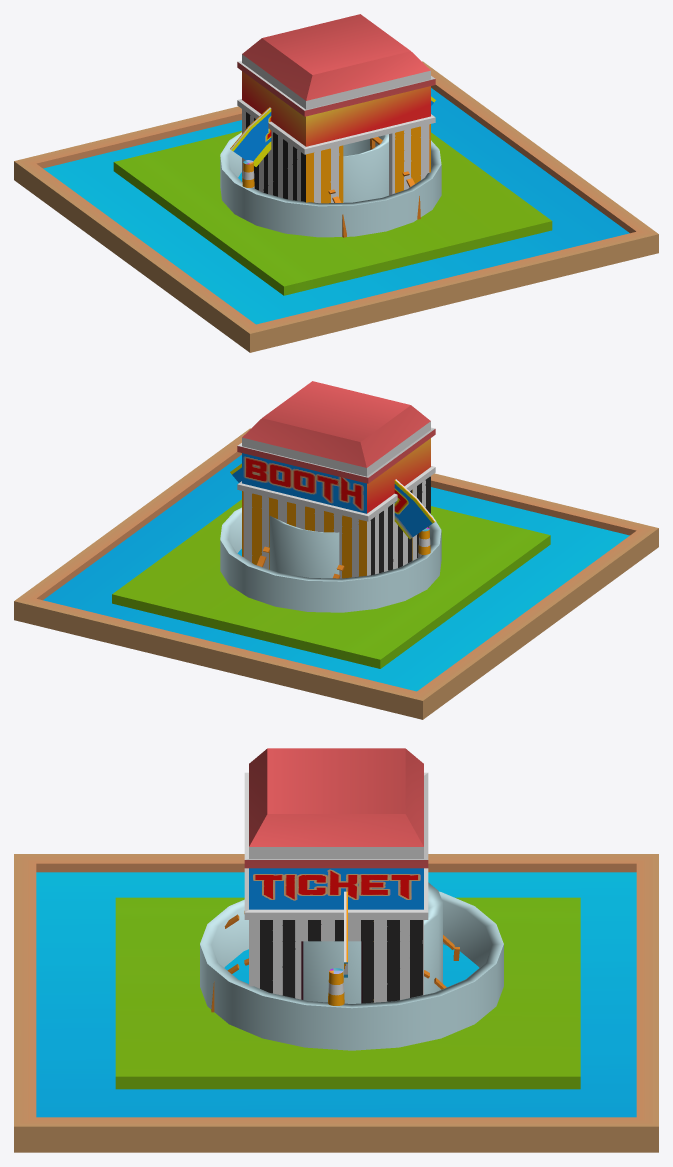
The model's file is park prop 02.fbx.
3 views of the same model, one above another, from view 1: azimuth 30°, elevation 25°; view 2: azimuth 150°, elevation 25°; view 3: azimuth 270°, elevation 25° (orthographic). The views are drawn at different scales.
Parts seen in each view (by area): view 1: park_prop04, park_prop02, park_prop05; view 2: park_prop04, park_prop02, park_prop05; view 3: park_prop04, park_prop02, park_prop05, park_prop03.
Part boxes in pixels (<box>): park_prop04: <box>14,61,658,352</box>; park_prop02: <box>237,14,435,203</box>; park_prop05: <box>230,96,435,188</box>; park_prop04: <box>14,428,658,719</box>; park_prop02: <box>237,381,435,578</box>; park_prop05: <box>230,463,435,557</box>; park_prop04: <box>14,854,658,1152</box>; park_prop02: <box>244,748,428,1003</box>; park_prop05: <box>328,891,347,1005</box>; park_prop03: <box>211,911,459,1012</box>.
Bounding box in the file's own units: 1031 × 439 × 1031.
